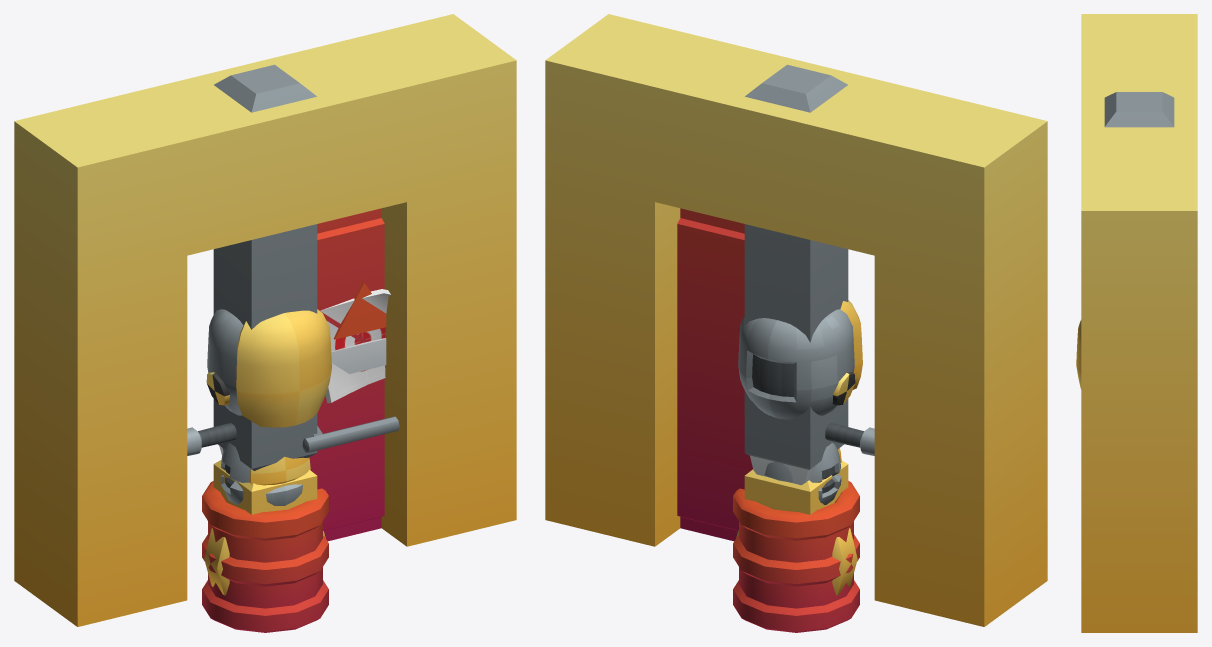
Rendered from kaykit-prototype.glb.
The picture shows the model from 3 angles, left to right: view 1: azimuth 30°, elevation 25°; view 2: azimuth 150°, elevation 25°; view 3: azimuth 270°, elevation 25°; orthographic projection. The views are drawn at different scales.
Parts seen in each view (by area): view 1: Primitive_Doorway, Door_B, Pillar_A, Barrel_A, Dummy_Head, PrototypePete_body.010, Door_A_Decorated, Dummy_ArmRight, Coin_A; view 2: Primitive_Doorway, Door_B, Pillar_A, Barrel_A, Dummy_Head, PrototypePete_body.010, Dummy_ArmRight, Coin_A; view 3: Primitive_Doorway, Pillar_A, Dummy_Head.
Boxes of the visible parts, x1=… form: Primitive_Doorway: x1=14, y1=14, x2=516, y2=626; Door_B: x1=302, y1=208, x2=399, y2=541; Pillar_A: x1=213, y1=64, x2=317, y2=514; Barrel_A: x1=202, y1=481, x2=328, y2=632; Dummy_Head: x1=206, y1=309, x2=331, y2=427; PrototypePete_body.010: x1=220, y1=443, x2=310, y2=505; Door_A_Decorated: x1=320, y1=289, x2=390, y2=403; Dummy_ArmRight: x1=187, y1=423, x2=236, y2=455; Coin_A: x1=204, y1=528, x2=325, y2=595; Primitive_Doorway: x1=545, y1=14, x2=1047, y2=626; Door_B: x1=677, y1=208, x2=752, y2=541; Pillar_A: x1=744, y1=64, x2=848, y2=514; Barrel_A: x1=733, y1=481, x2=859, y2=632; Dummy_Head: x1=738, y1=300, x2=862, y2=419; PrototypePete_body.010: x1=764, y1=443, x2=841, y2=504; Dummy_ArmRight: x1=825, y1=423, x2=874, y2=455; Coin_A: x1=736, y1=528, x2=857, y2=595; Primitive_Doorway: x1=1081, y1=14, x2=1197, y2=632; Pillar_A: x1=1104, y1=92, x2=1174, y2=127; Dummy_Head: x1=1076, y1=320, x2=1081, y2=389.
Bounding box in the file's own units: 4 × 4.6 × 1.04.
Materials: 1 (1 with a texture image).
